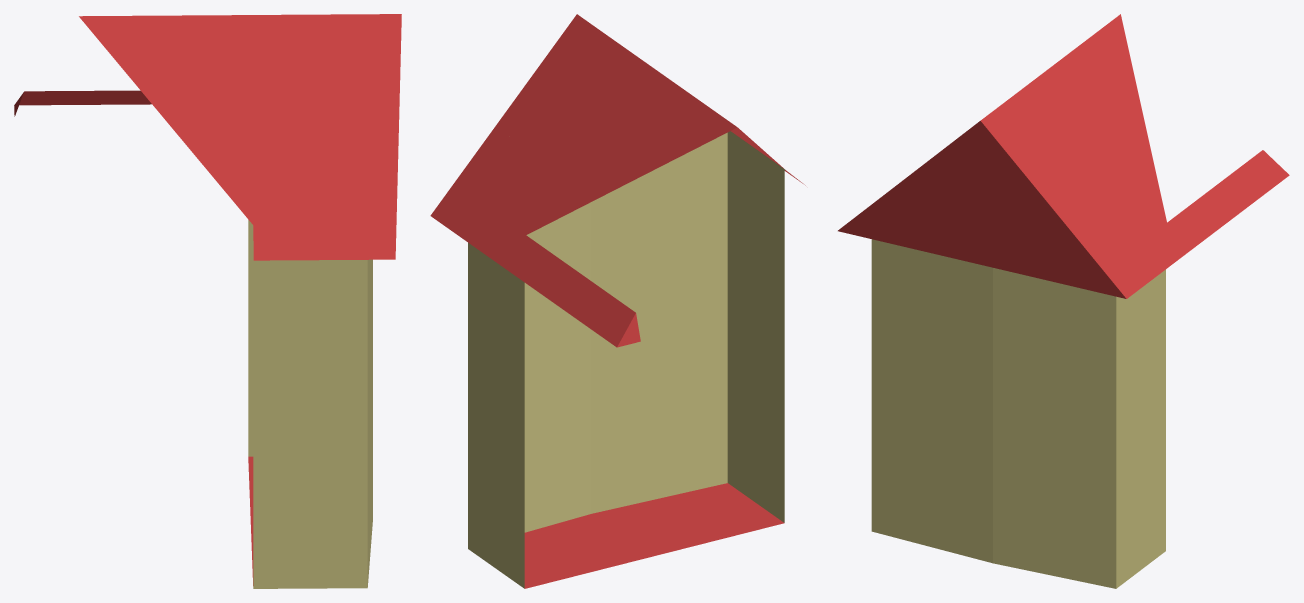
3 views of the same model, side by side, from view 1: azimuth 30°, elevation 25°; view 2: azimuth 150°, elevation 25°; view 3: azimuth 270°, elevation 25° (orthographic). The views are drawn at different scales.
Size of the model in its own units: 9.44 by 13.18 by 14.54.
